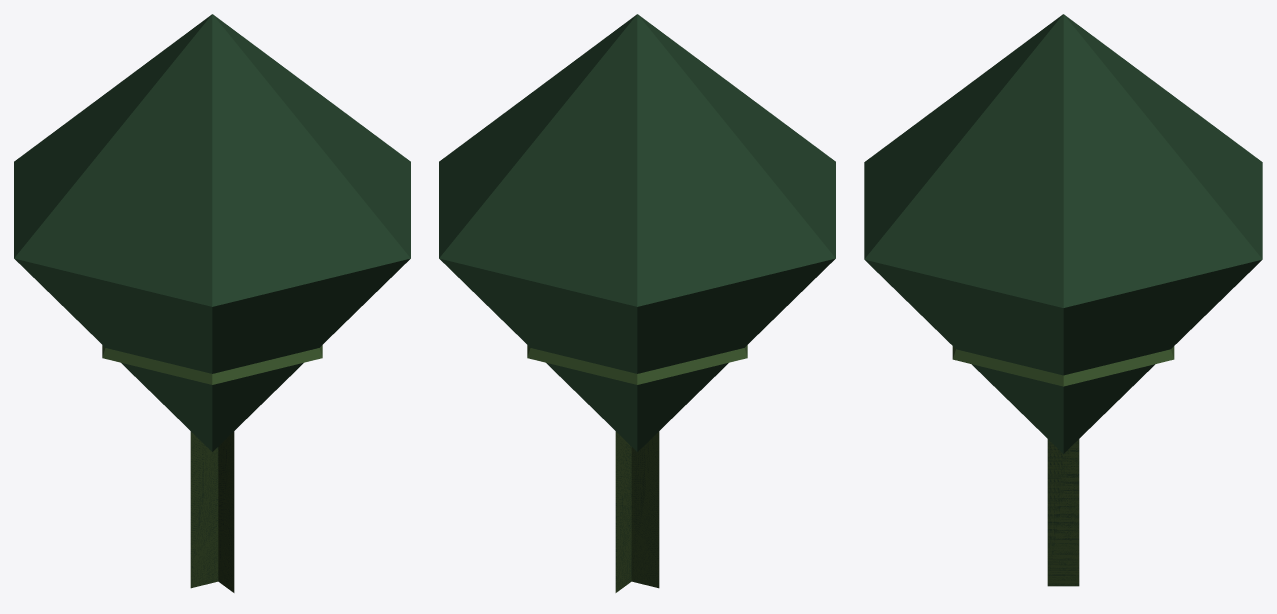
File: trees.glb
3 views of the same model, side by side, from view 1: azimuth 30°, elevation 25°; view 2: azimuth 150°, elevation 25°; view 3: azimuth 270°, elevation 25° (orthographic).
Parts seen in each view (by area): view 1: trees_holly, trees_loblolly; view 2: trees_holly, trees_loblolly; view 3: trees_holly, trees_loblolly.
Boxes of the visible parts, x1,y1,x2,y2 form: trees_holly: [14, 14, 410, 590]; trees_loblolly: [102, 345, 322, 592]; trees_holly: [439, 14, 835, 590]; trees_loblolly: [527, 345, 747, 592]; trees_holly: [864, 14, 1262, 586]; trees_loblolly: [952, 346, 1174, 586].
Size of the model in its own units: 0.72 by 1 by 0.6235.
